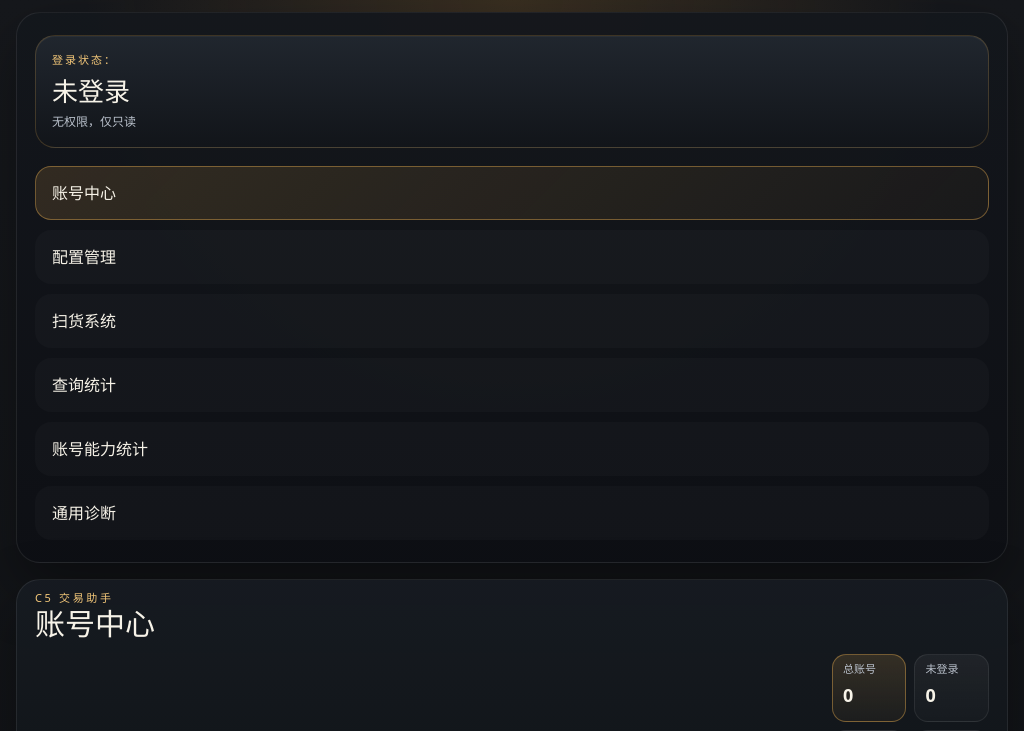
app page keepalive › does not refetch account center and stats pages when revisiting from the sidebar
This screenshot has width=1024, height=731.
Click the button "查询统计". click: (84, 385)
box: [35,358,989,412]
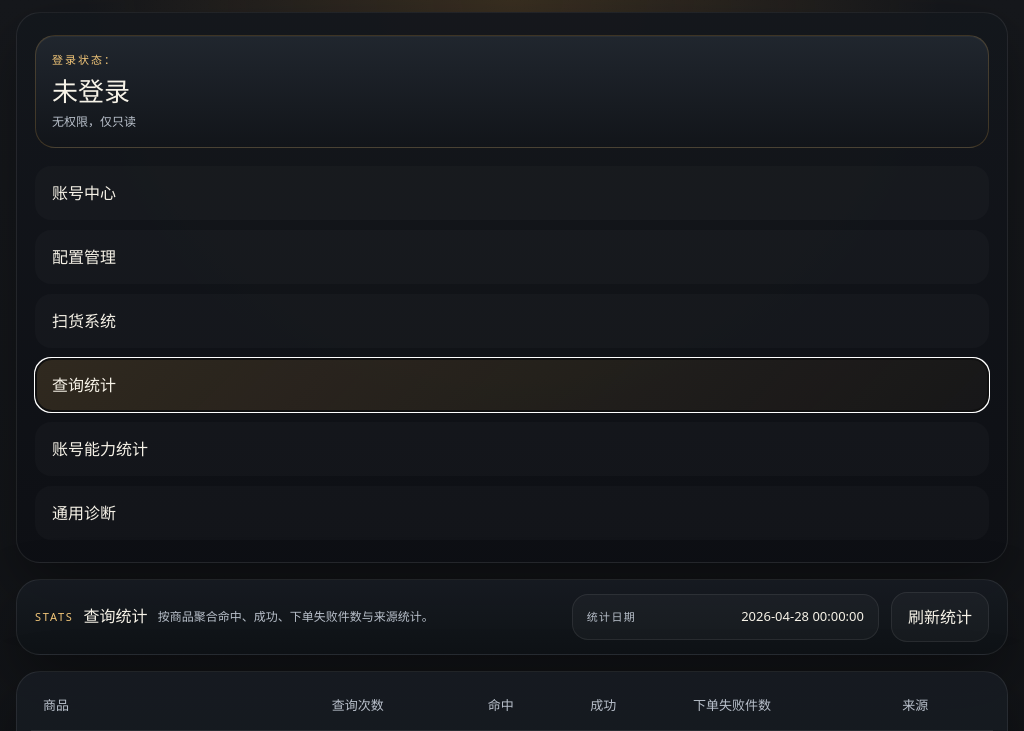
Click the button "账号能力统计". click: (100, 449)
box: [35,422,989,476]
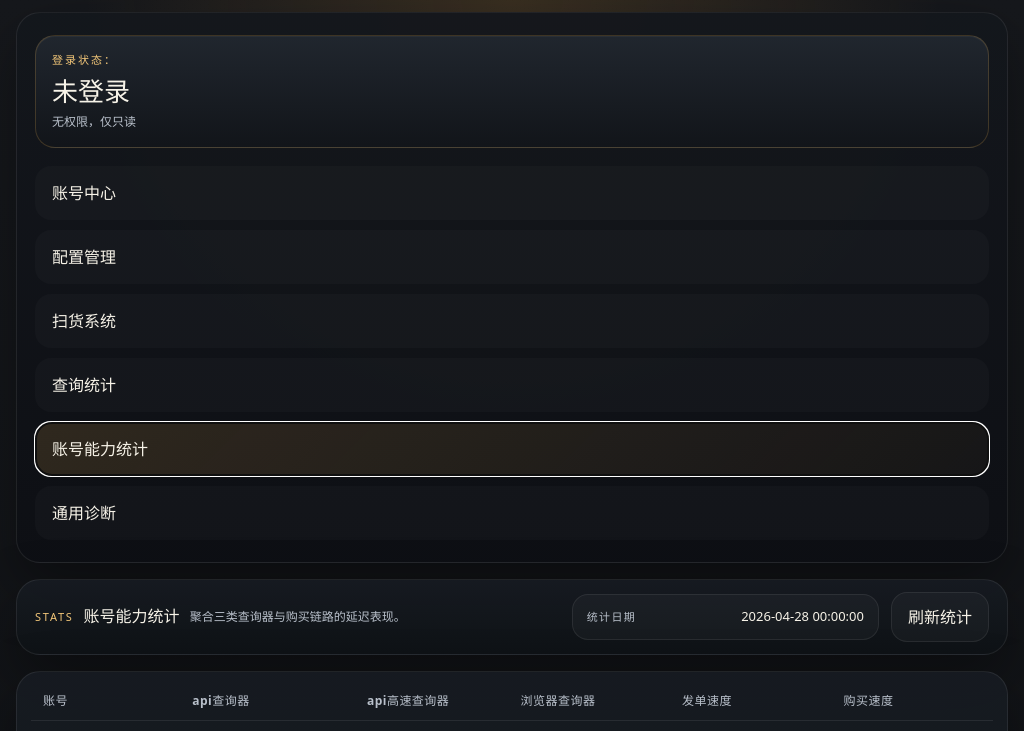
Click the button "账号中心". click: (84, 193)
box: [35,166,989,220]
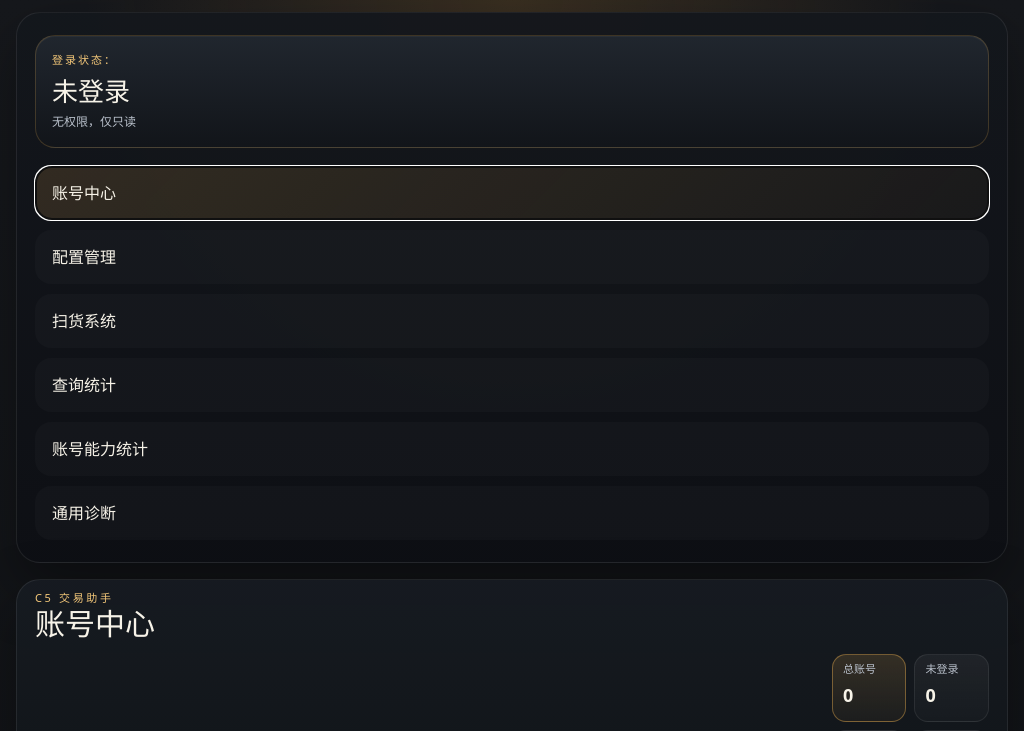
Click the button "查询统计". click: (84, 385)
box: [35,358,989,412]
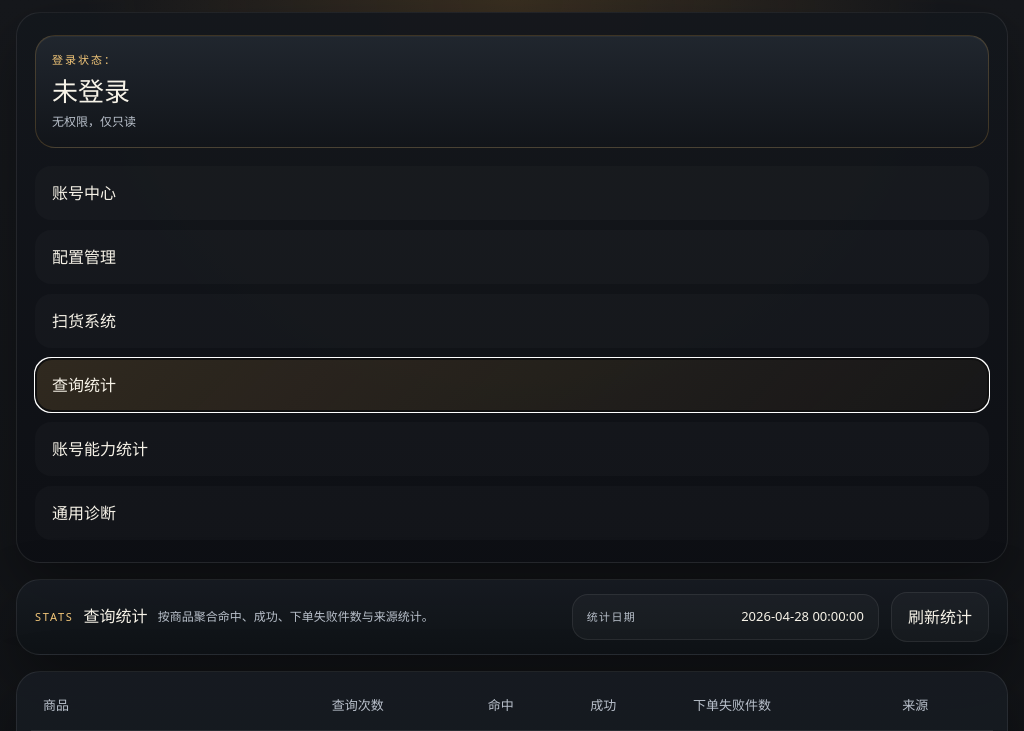
Click the button "账号能力统计". click: (100, 449)
box: [35,422,989,476]
(page scrolled)
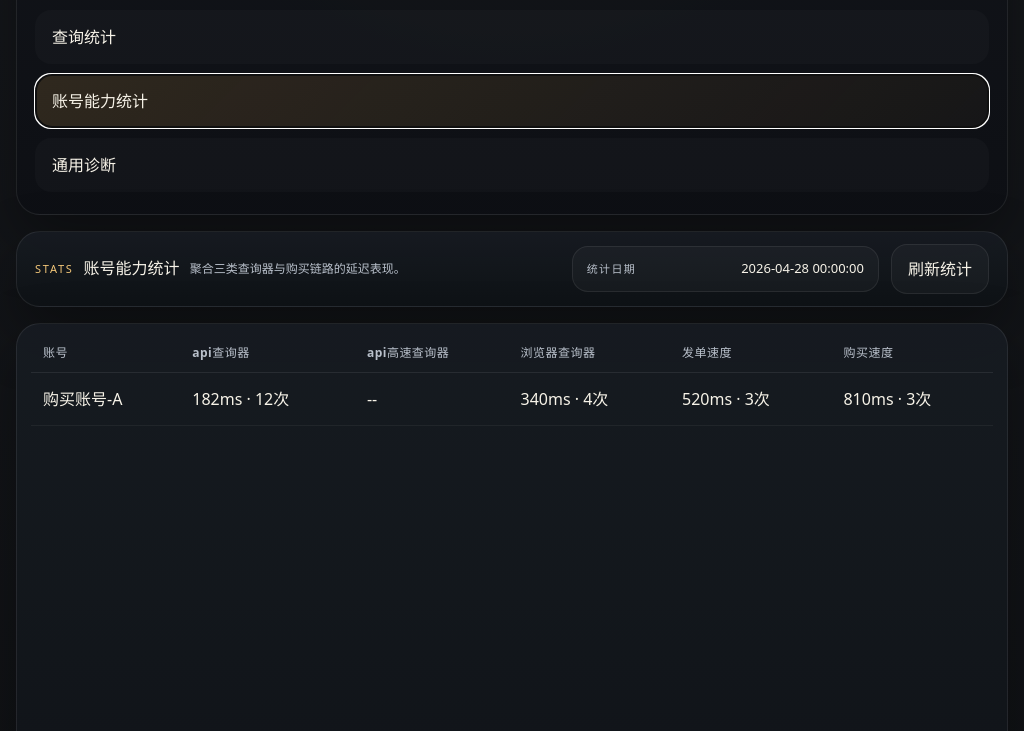
Now the table named "账号能力统计表" is shown, box [31,334,993,426]
